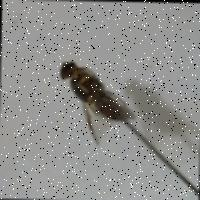Oriental-fruit-fly: (48, 47, 150, 153)
